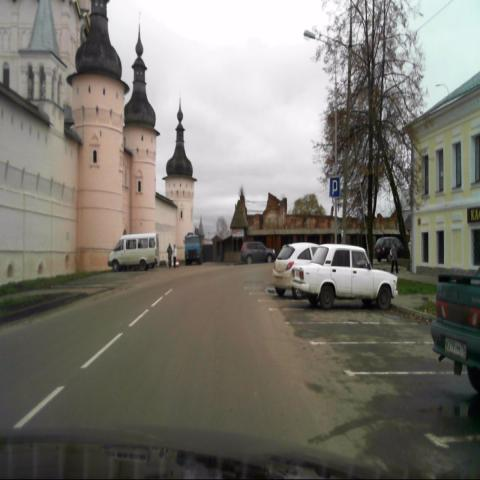6_4: (329, 176, 339, 196)
